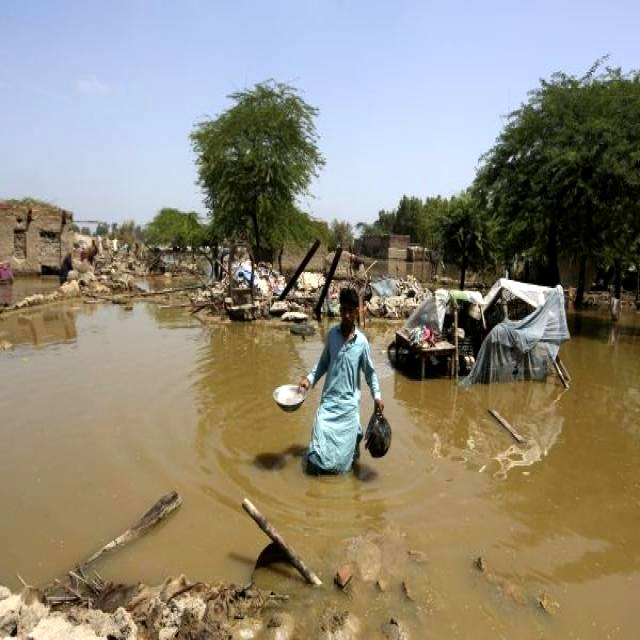civilian: (272, 274, 409, 484)
